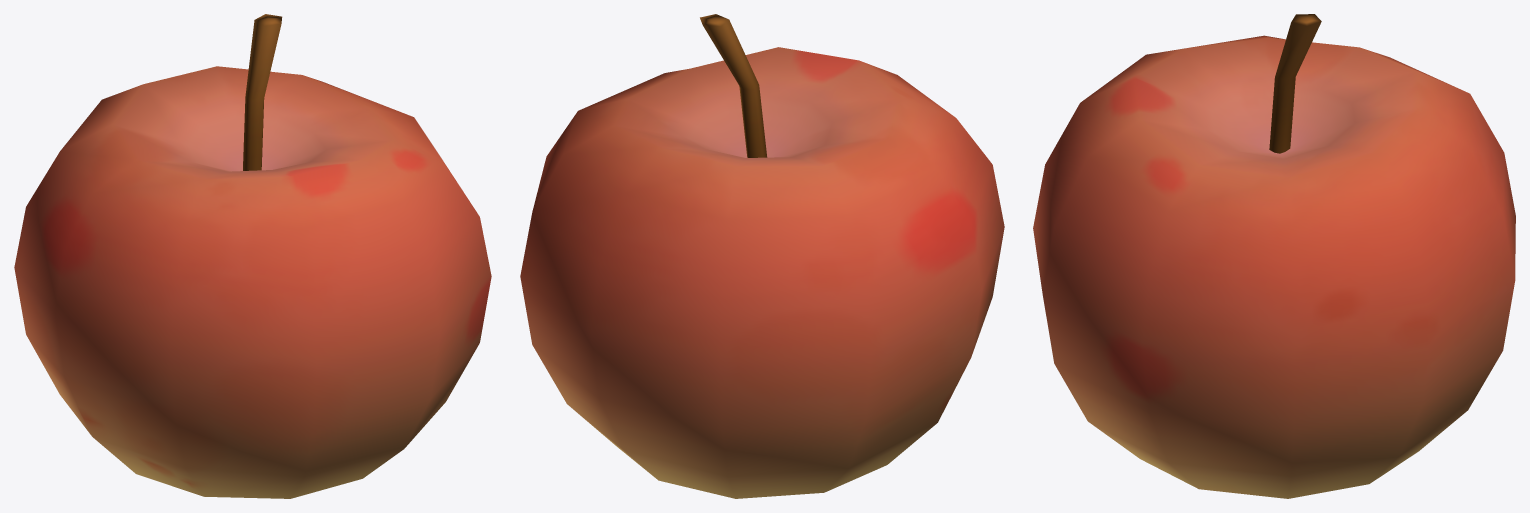
The model's file is apple_red.fbx.
The picture shows the model from 3 angles, left to right: view 1: azimuth 30°, elevation 25°; view 2: azimuth 150°, elevation 25°; view 3: azimuth 270°, elevation 25°; orthographic projection. The views are drawn at different scales.
Parts seen in each view (by area): view 1: pSphere6; view 2: pSphere6; view 3: pSphere6.
Boxes of the visible parts, x1,y1,x2,y2 form: pSphere6: (14, 14, 491, 498); pSphere6: (520, 14, 1004, 498); pSphere6: (1033, 14, 1515, 498).
Size of the model in its own units: 2.15 by 2.13 by 2.04.
